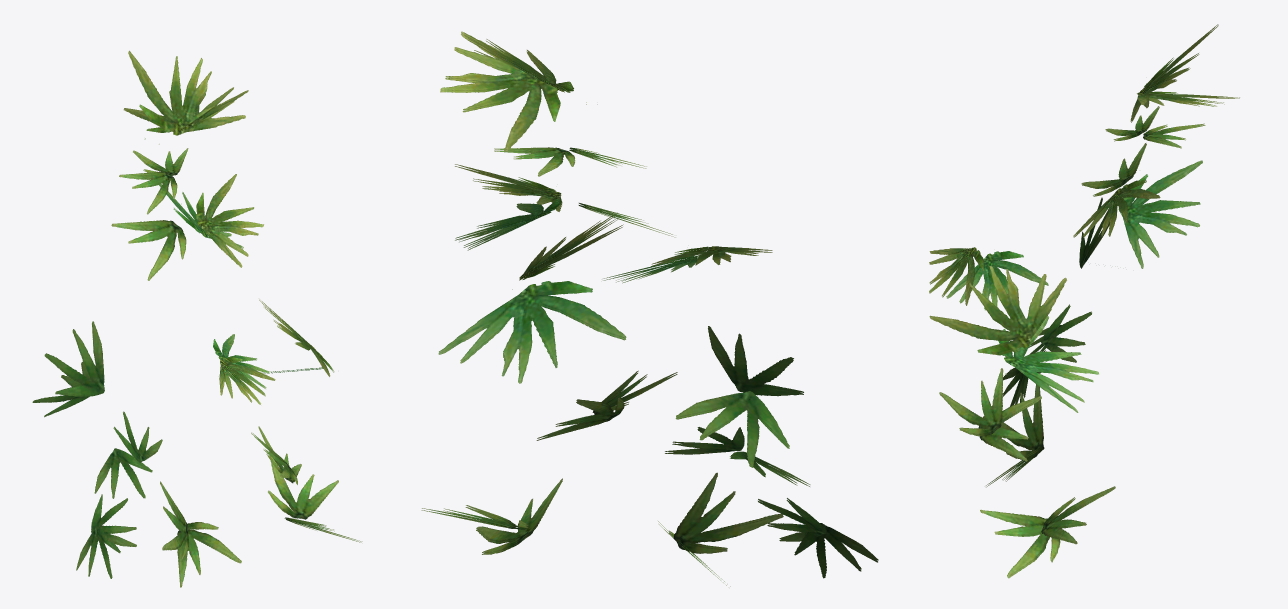
Rendered from Area_12_43.fbx.
The picture shows the model from 3 angles, left to right: view 1: azimuth 30°, elevation 25°; view 2: azimuth 150°, elevation 25°; view 3: azimuth 270°, elevation 25°; orthographic projection. The views are drawn at different scales.
Visible parts, largest first — view 1: Area_12_43; view 2: Area_12_43; view 3: Area_12_43.
Boxes of the visible parts, left/top/right/bottom form: Area_12_43: left=32, top=50, right=362, bottom=587; Area_12_43: left=421, top=31, right=878, bottom=586; Area_12_43: left=929, top=24, right=1239, bottom=578.
Bounding box in the file's own units: 1803 × 2632 × 1653.
